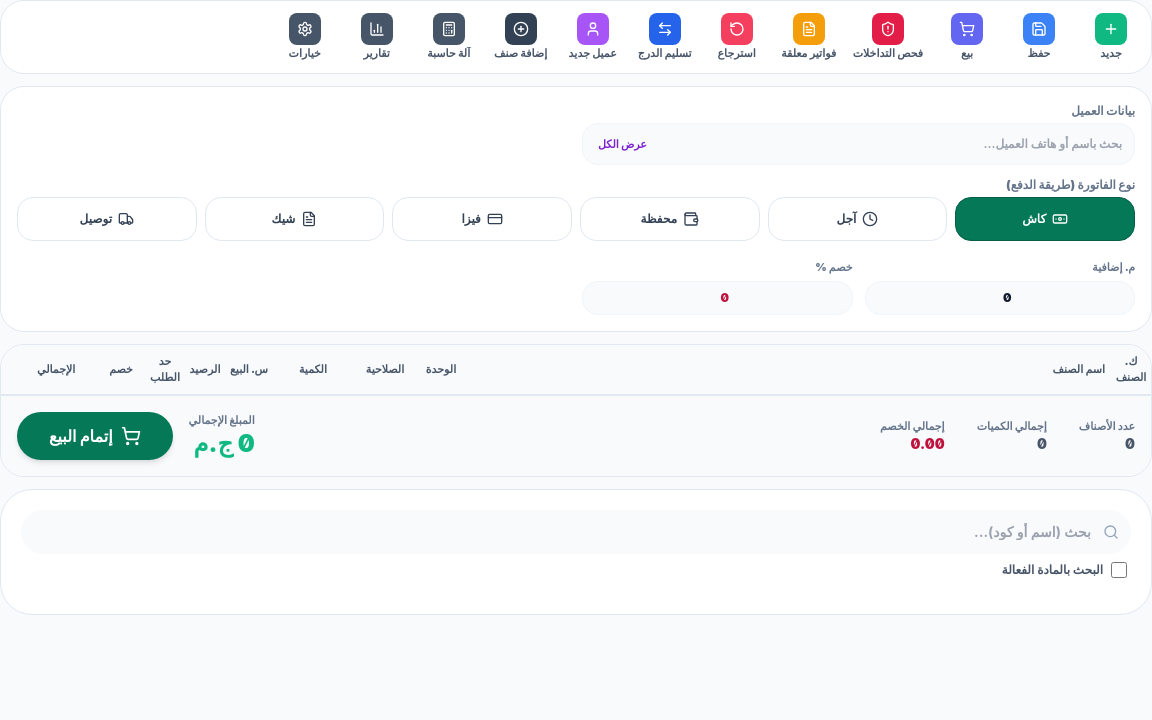
Test case: coverage-gap: POS keyboard shortcuts › keeps POS patient search results owned by the newest query when an older request resolves later
Type "old" into the field with placeholder "بحث باسم أو هاتف العميل..." at (858, 144), box x1=582 y1=123 x2=1135 y2=165
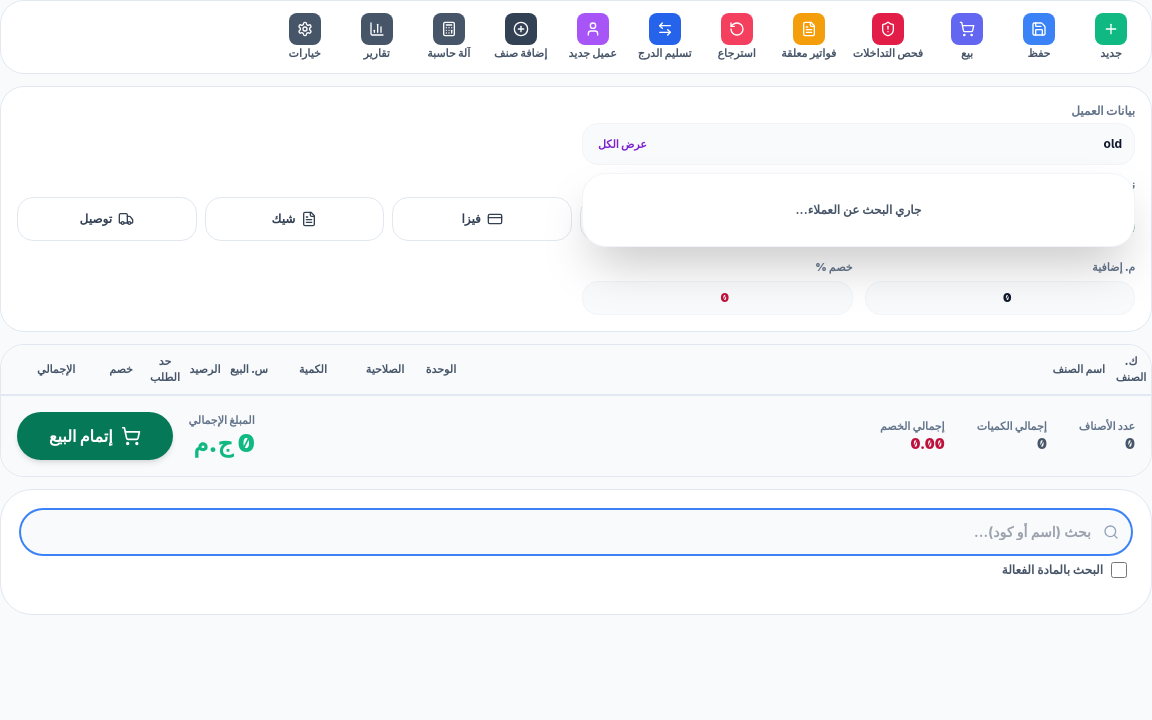
Replace the text in the field with placeholder "بحث باسم أو هاتف العميل..." with "new" at (858, 144), box x1=582 y1=123 x2=1135 y2=165
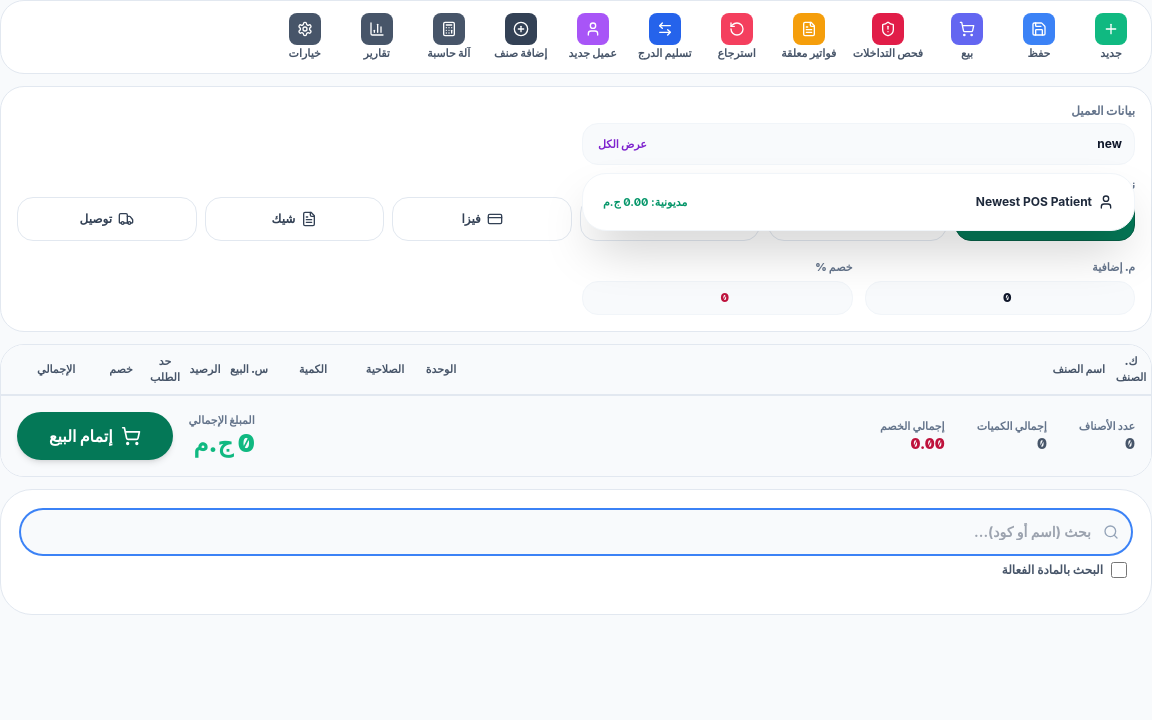
Now the text "Newest POS Patient" is shown, box x1=976 y1=194 x2=1114 y2=210
